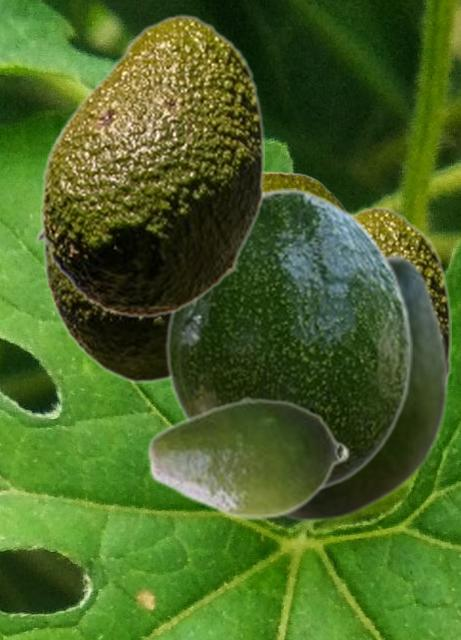avocado: (165, 188, 411, 491), (40, 14, 263, 318), (279, 252, 448, 522), (34, 120, 167, 382), (145, 395, 350, 521), (351, 206, 450, 387), (264, 171, 348, 210)
